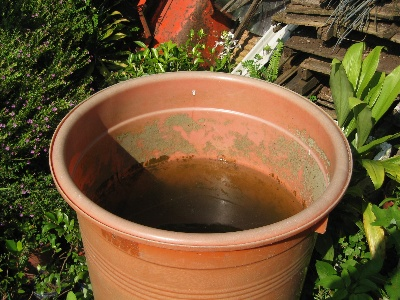bucket: (48, 71, 353, 300)
